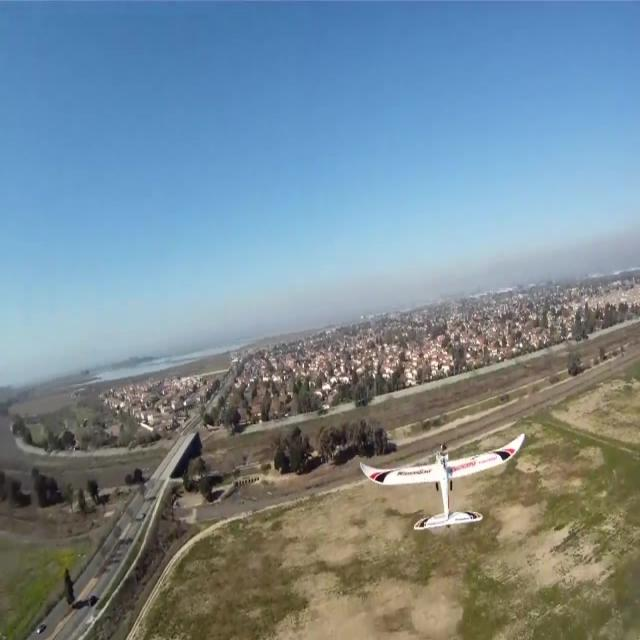iha: (357, 462, 526, 500)
